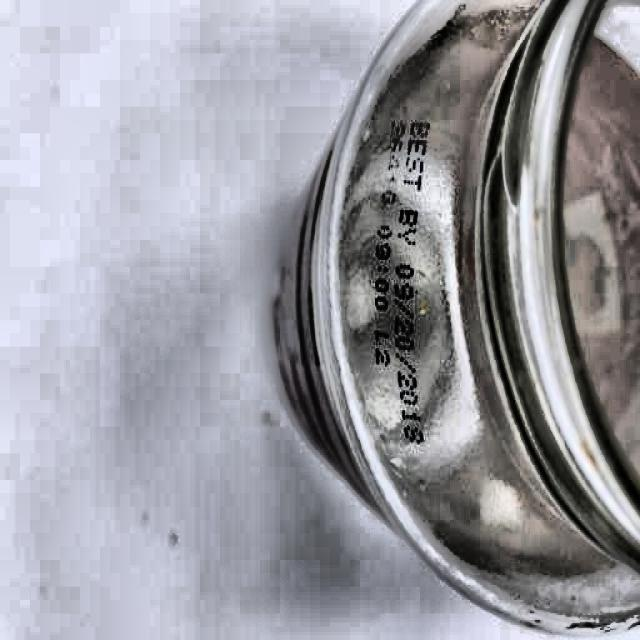glass: (306, 22, 640, 640)
